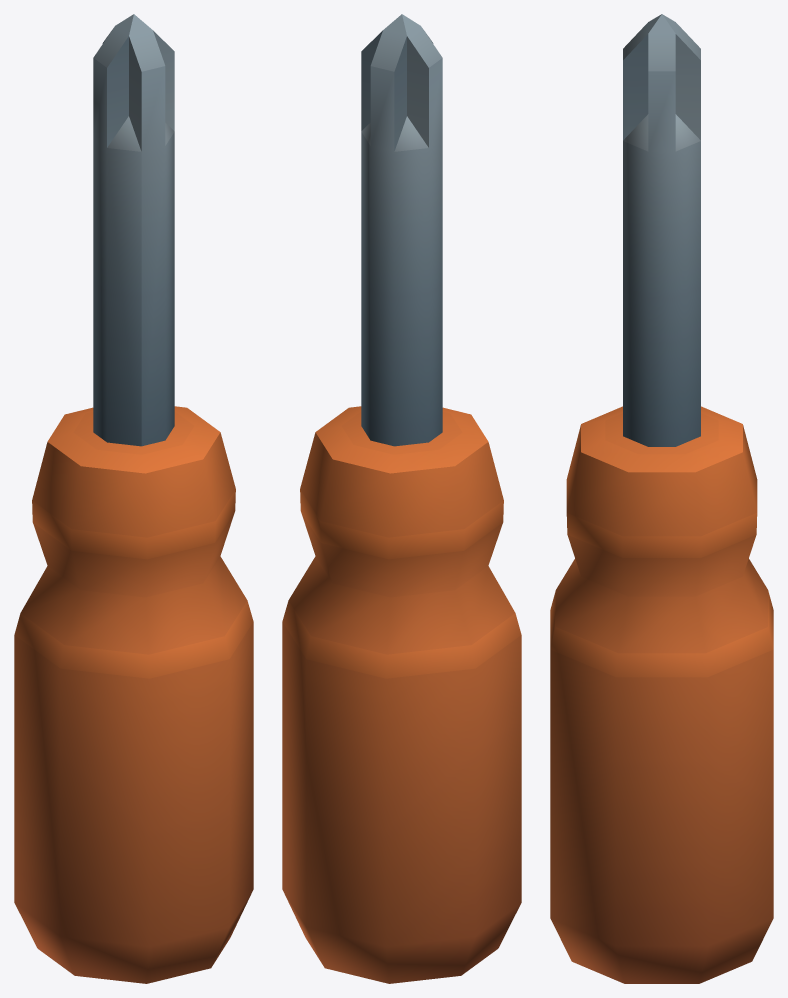
The model's file is screwdriver_b_short_color.glb.
3 renders of one model, left to right at view 1: azimuth 30°, elevation 25°; view 2: azimuth 150°, elevation 25°; view 3: azimuth 270°, elevation 25°, orthographic.
Parts seen in each view (by area): view 1: screwdriver_B_short_color; view 2: screwdriver_B_short_color; view 3: screwdriver_B_short_color.
Part boxes in pixels (x1,y1,x2,y2): screwdriver_B_short_color: (14, 14, 253, 983); screwdriver_B_short_color: (282, 14, 521, 983); screwdriver_B_short_color: (550, 14, 773, 983).
Bounding box in the file's own units: 0.0908 × 0.4282 × 0.0908.
1 material, 1 textured.
